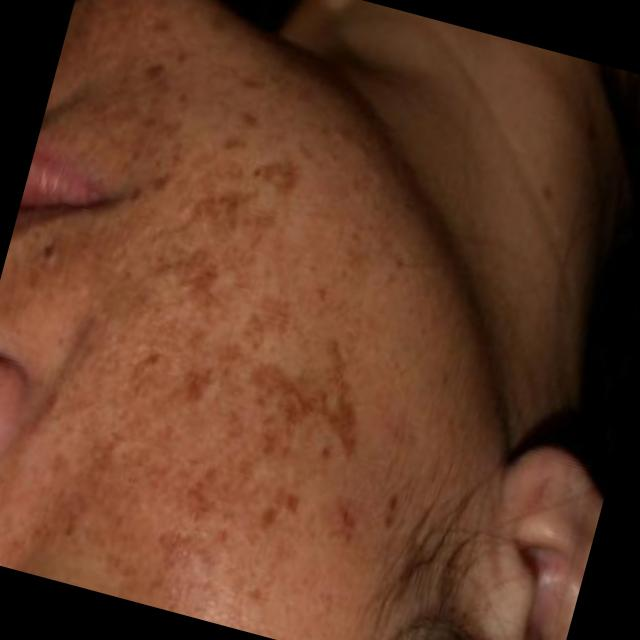melasma: (17, 12, 427, 623)
